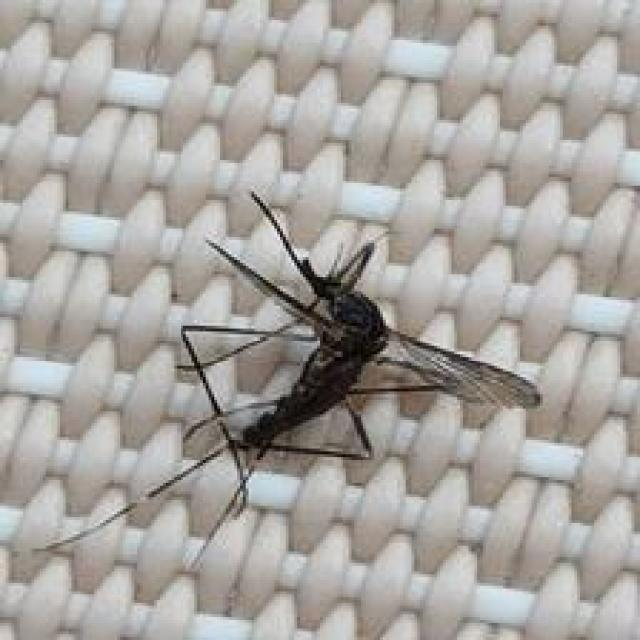Aedes albopictus: (40, 188, 543, 568)
